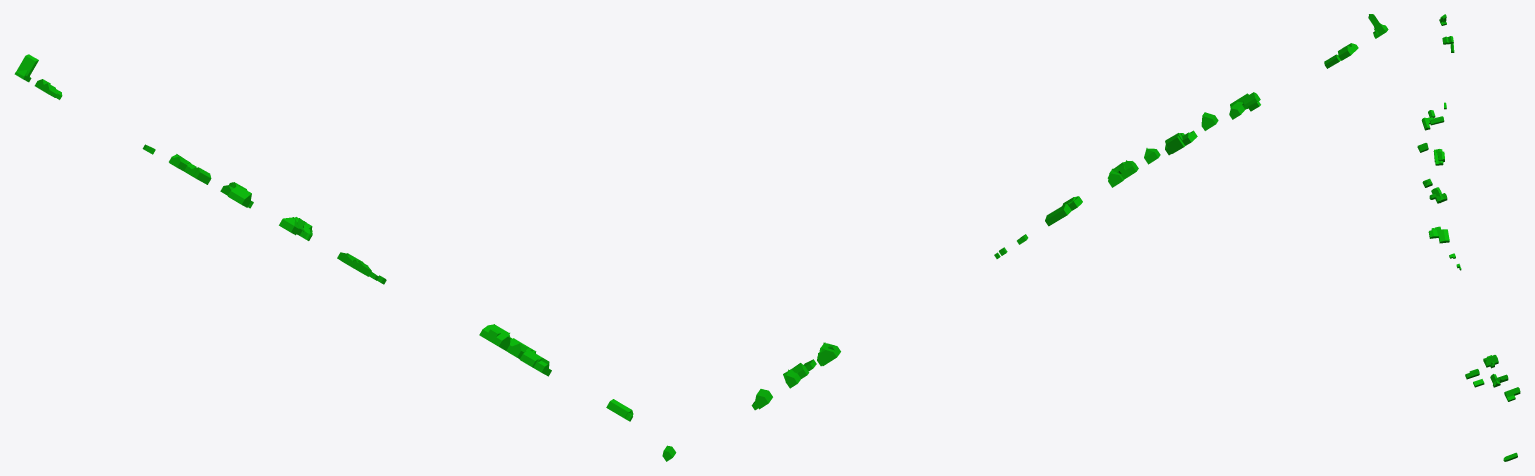
The picture shows the model from 3 angles, left to right: view 1: azimuth 30°, elevation 25°; view 2: azimuth 150°, elevation 25°; view 3: azimuth 270°, elevation 25°; orthographic projection. The views are drawn at different scales.
Visible parts, largest first — view 1: mesh; view 2: mesh; view 3: mesh.
Boxes of the visible parts, box(x1,y1,x2,y2) form: mesh: box(14, 54, 633, 421); mesh: box(662, 14, 1388, 461); mesh: box(1417, 14, 1520, 461).
Size of the model in its own units: 395 by 317 by 104.
